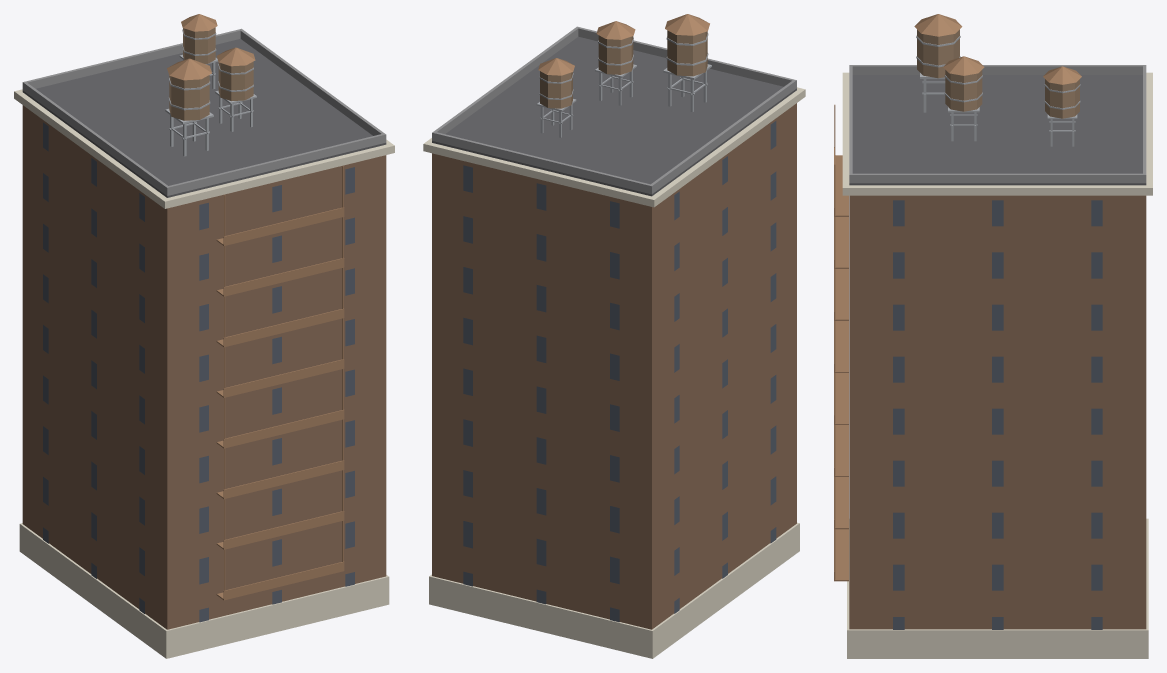
Rendered from bld_walkup_01.glb.
3 renders of one model, left to right at view 1: azimuth 30°, elevation 25°; view 2: azimuth 150°, elevation 25°; view 3: azimuth 270°, elevation 25°, orthographic. The views are drawn at different scales.
Parts seen in each view (by area): view 1: bld_walkup_01; view 2: bld_walkup_01; view 3: bld_walkup_01.
Boxes of the visible parts, x1,y1,x2,y2 form: bld_walkup_01: [14, 14, 394, 658]; bld_walkup_01: [423, 14, 805, 658]; bld_walkup_01: [834, 14, 1152, 658].
Size of the model in its own units: 14.7 by 33.66 by 17.18.
